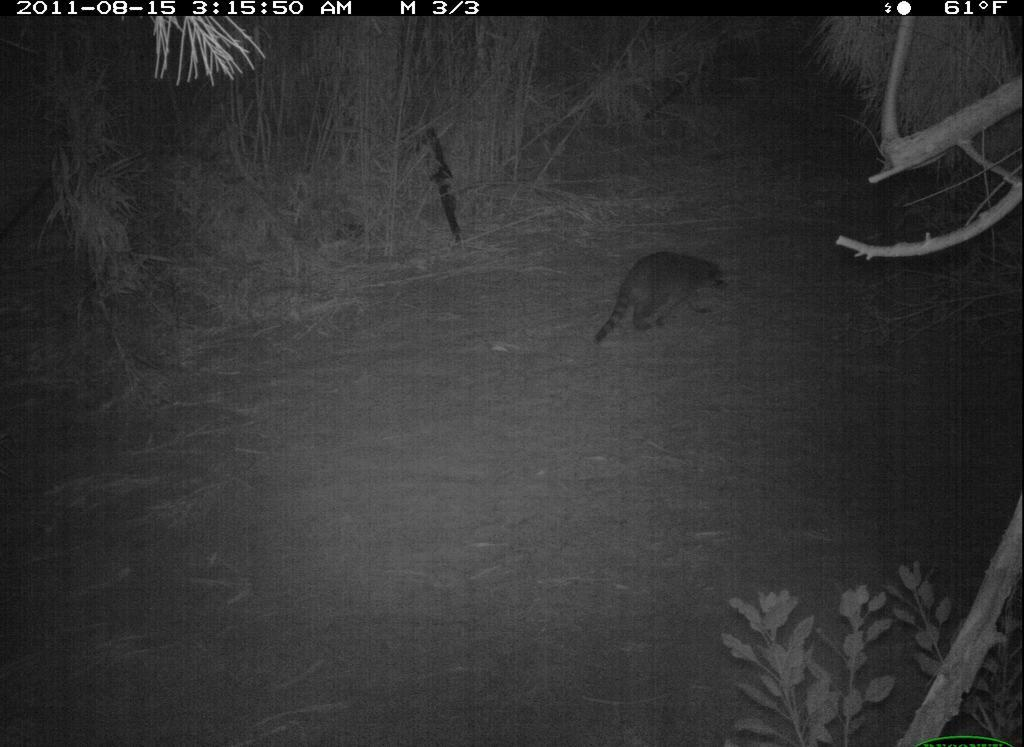raccoon: (573, 245, 737, 355)
